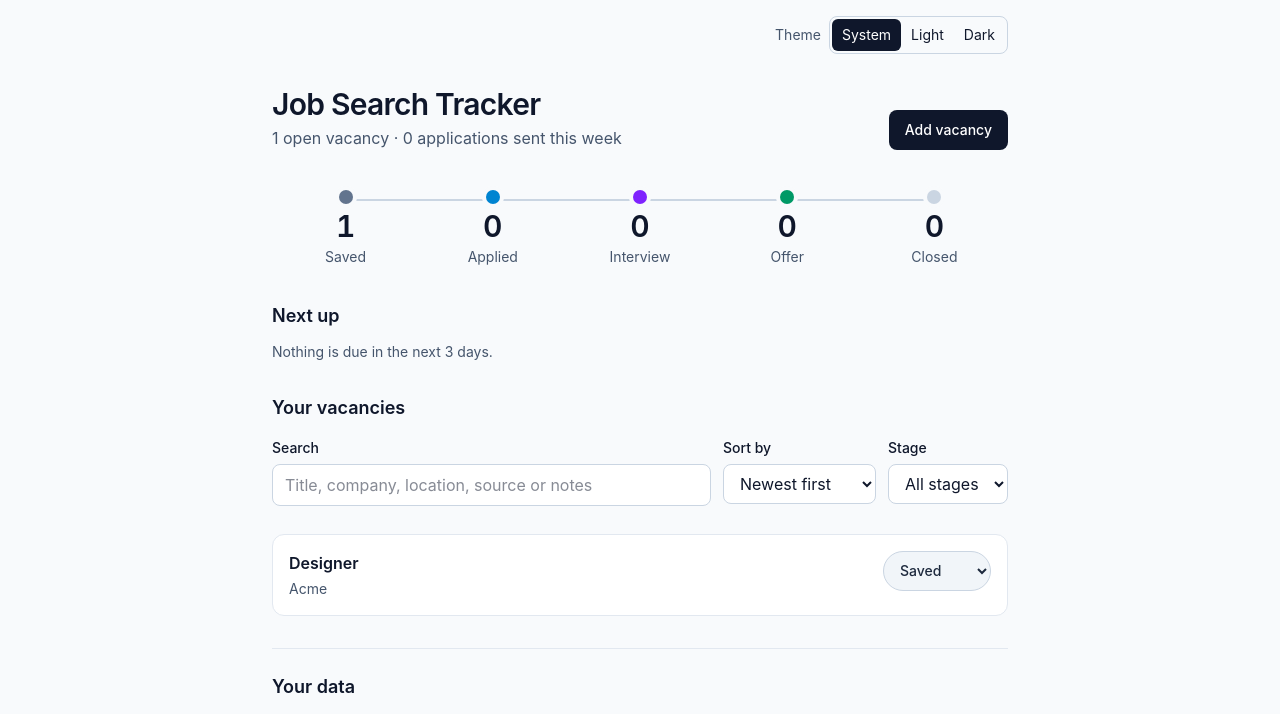
Test: JobsPage › deletes a vacancy only after you confirm
The width and height of the screenshot is (1280, 714).
What coordinates should you click on to do the following:
click the button "Designer"
I would click on:
 (324, 562)
Its box is [289,550,359,574].
(page scrolled)
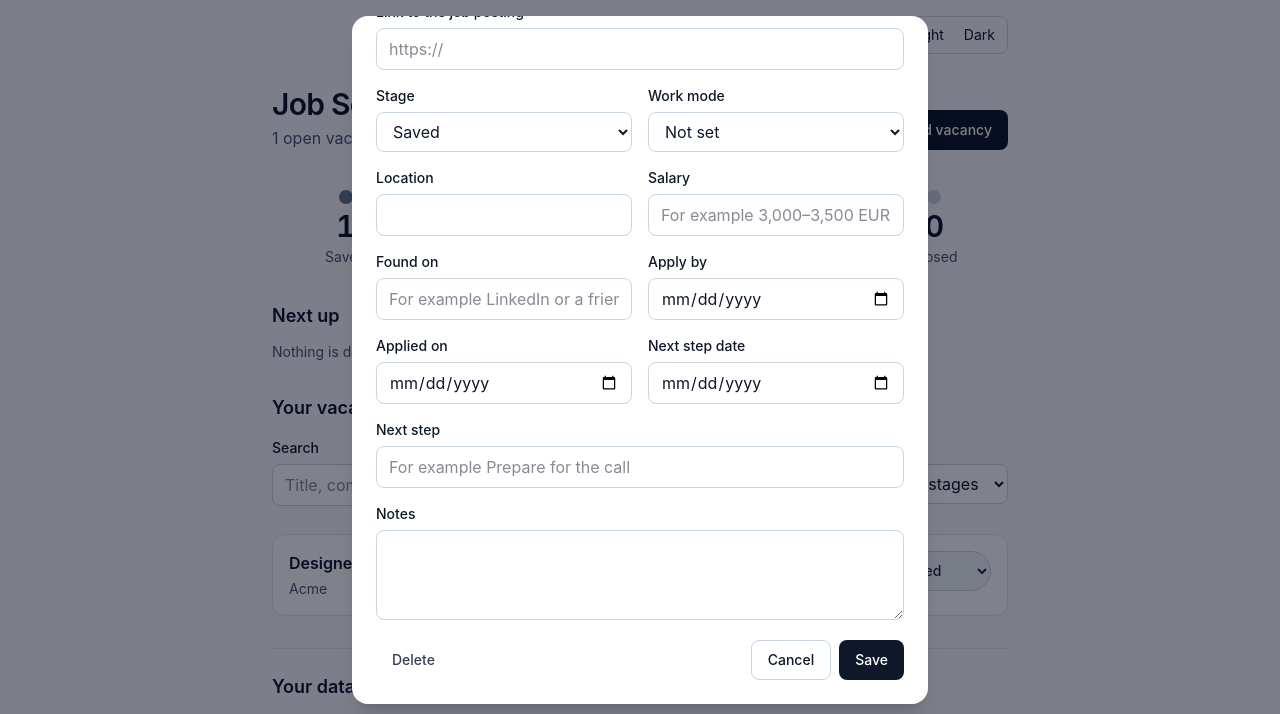
What coordinates should you click on to do the following:
click the button "Delete"
I would click on:
 (413, 660)
Its box is [376,640,451,680].
(page scrolled)
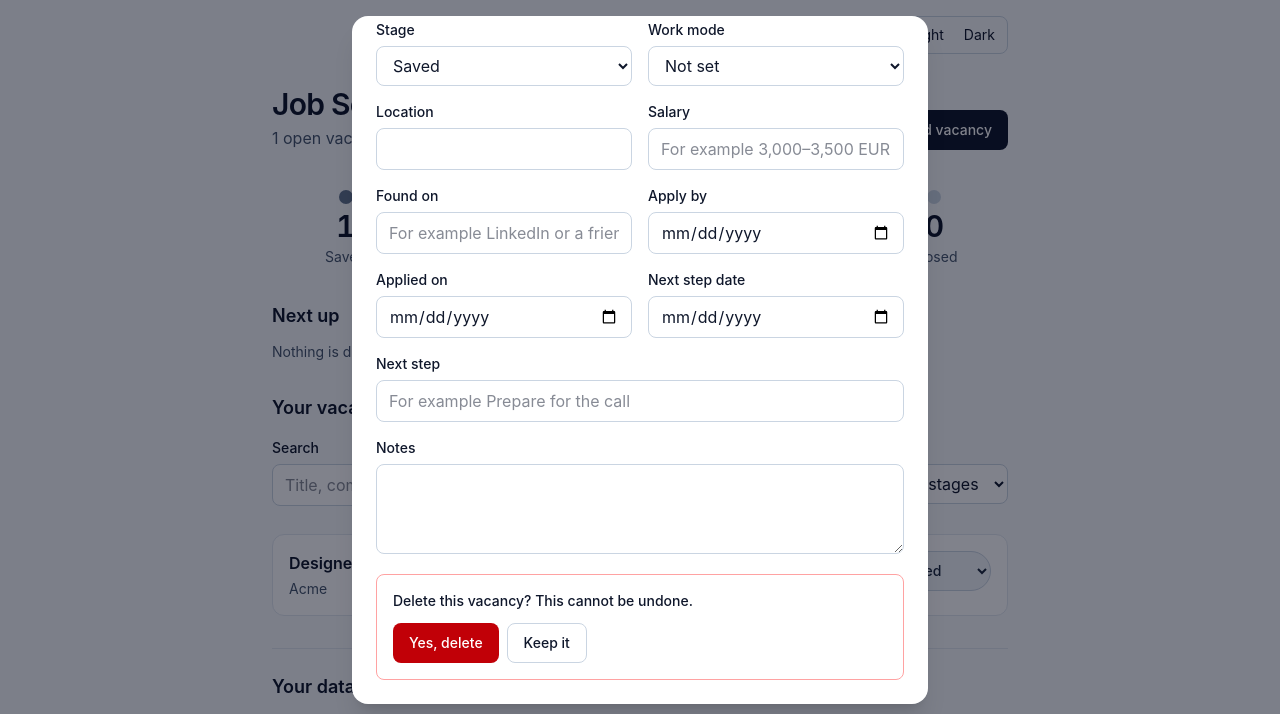
Expected: the text "Delete this vacancy? This cannot be undone." is shown, [393,592,693,609]
// "Keep it" goes back without deleting.
What coordinates should you click on to do the following:
click the button "Keep it"
I would click on:
 (547, 643)
Its box is [507,623,587,663].
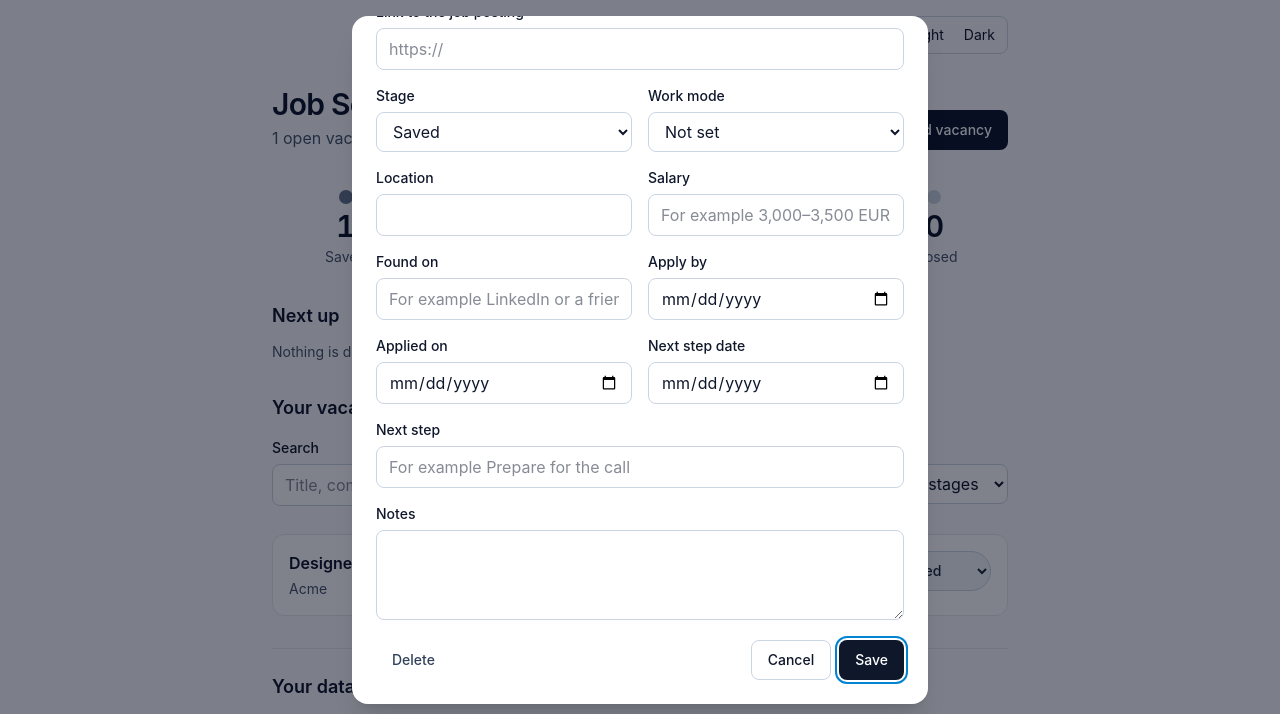
Expected: the text "Delete this vacancy? This cannot be undone." is gone
What coordinates should you click on to do the following:
click the button "Delete"
I would click on:
 (413, 660)
Its box is [376,640,451,680].
(page scrolled)
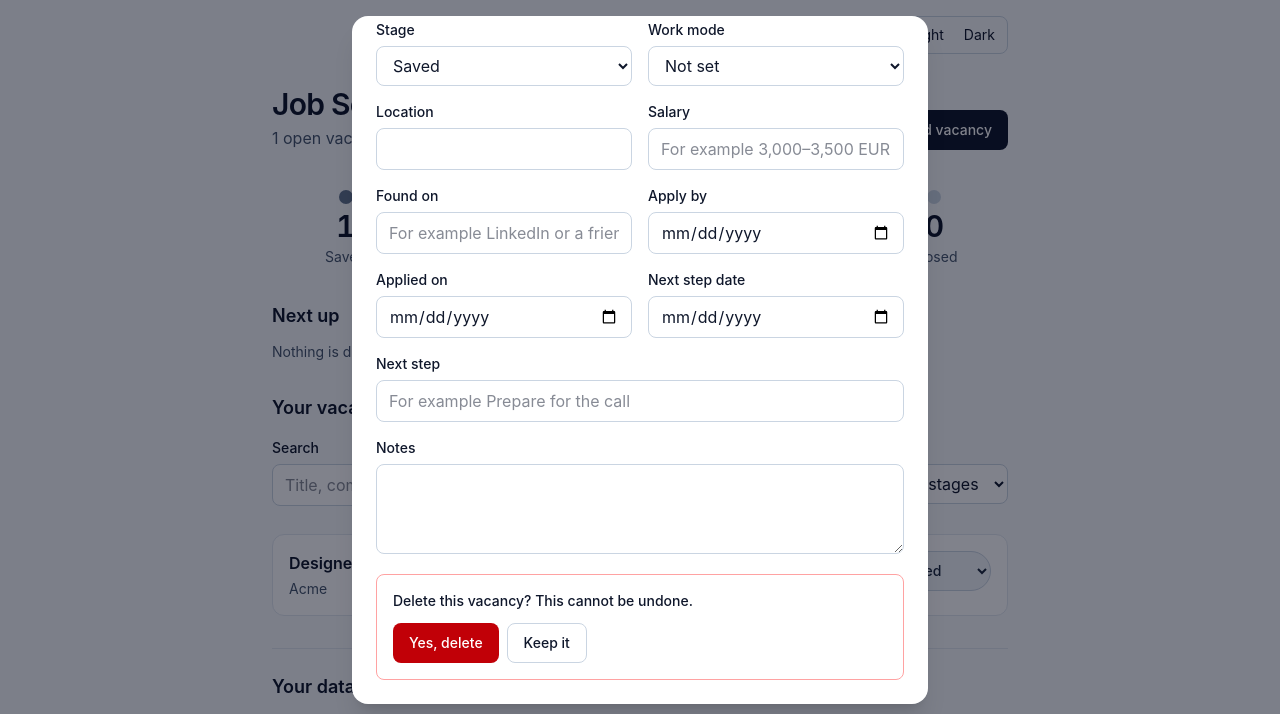
What coordinates should you click on to do the following:
click the button "Yes, delete"
I would click on:
 (446, 643)
Its box is [393,623,499,663].
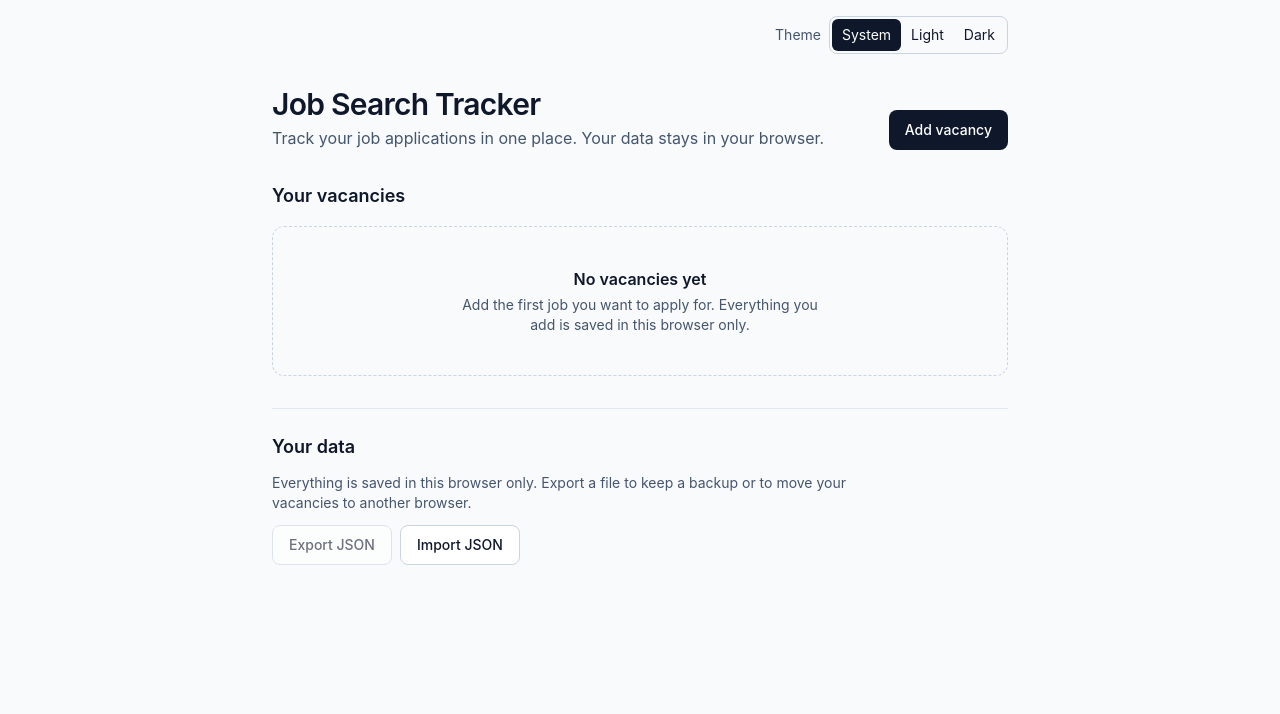
Expected: the dialog is gone
Expected: the heading "No vacancies yet" is shown, [574,269,706,289]
